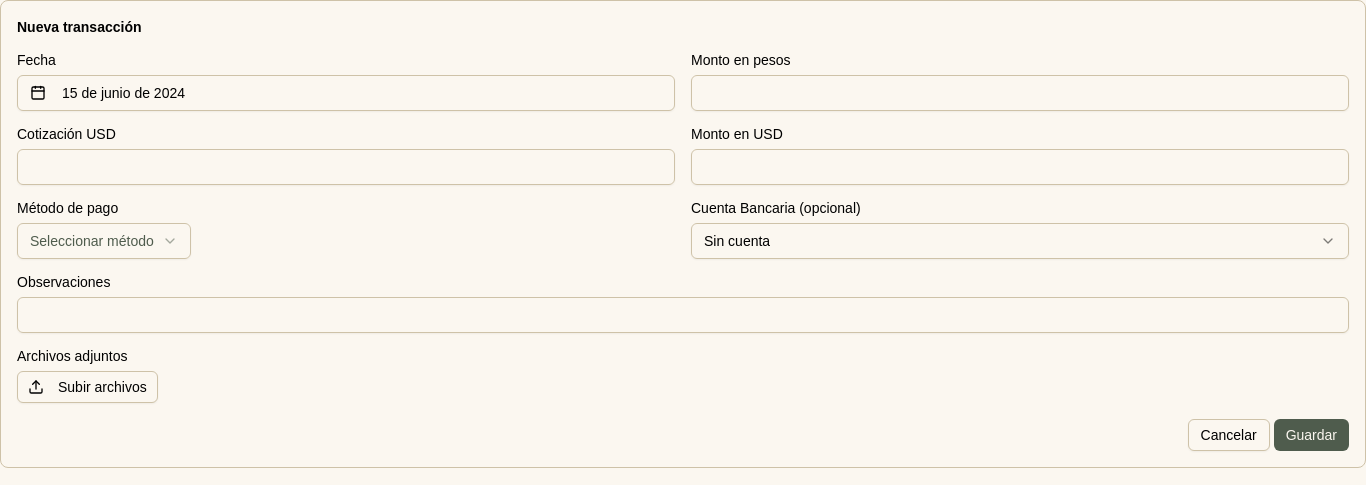
it: AddTransactionSection › payment method selection › renders payment method options from props
The width and height of the screenshot is (1366, 485).
Click the dropdown "Seleccionar método".
click(104, 241)  # box x1=17 y1=223 x2=191 y2=259
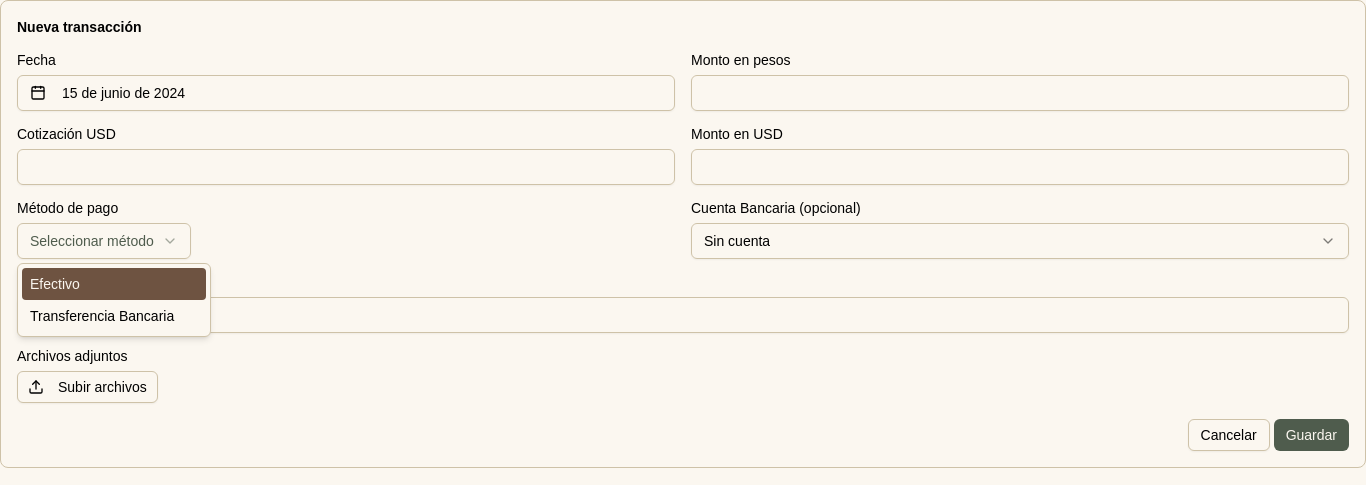
Check: the text "Efectivo" is shown, box x1=30 y1=274 x2=80 y2=294
Check: the text "Transferencia Bancaria" is shown, box x1=30 y1=306 x2=174 y2=326
